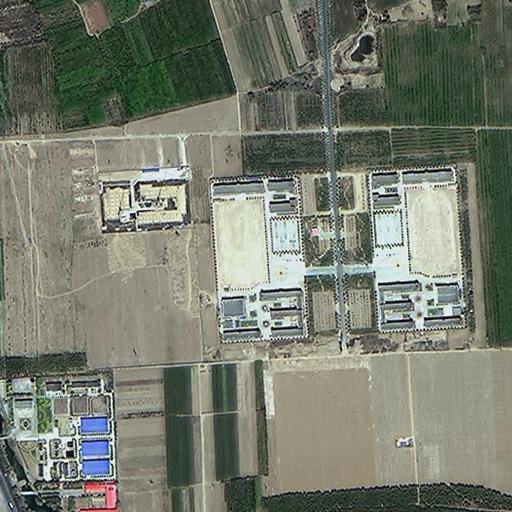school: (335, 165, 466, 332), (211, 171, 336, 346)
